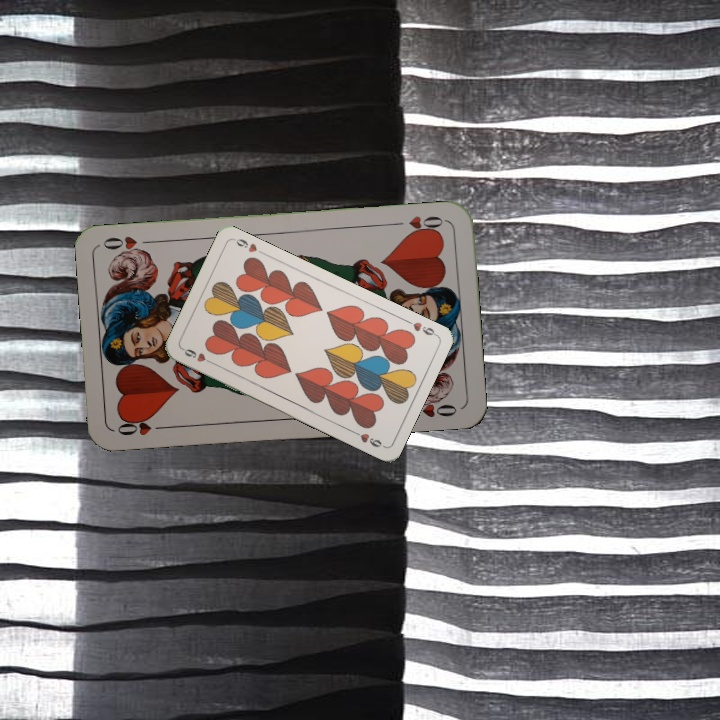H9: (401, 315, 439, 339), (179, 344, 217, 367)
HO: (389, 212, 448, 238), (113, 415, 171, 439)
